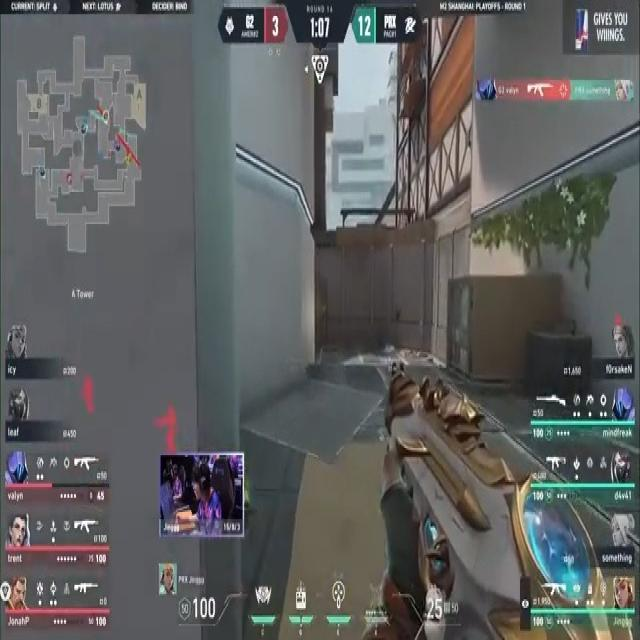enemy behind wall: (152, 402, 177, 452)
